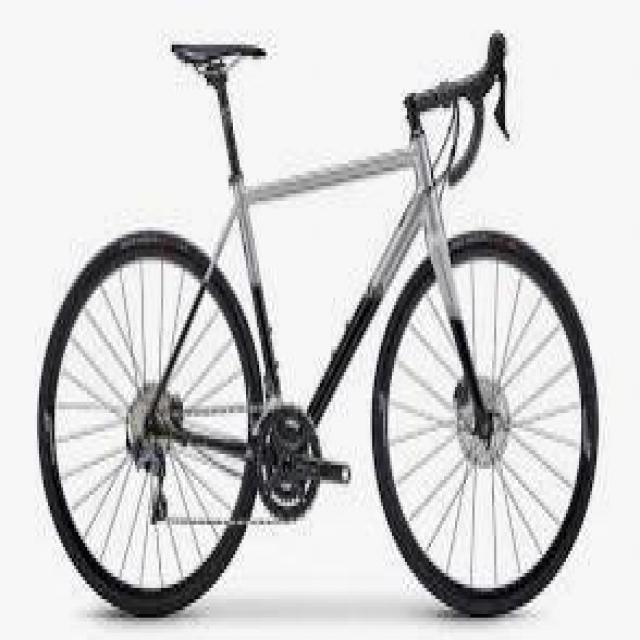bicycle: (60, 31, 607, 630)
